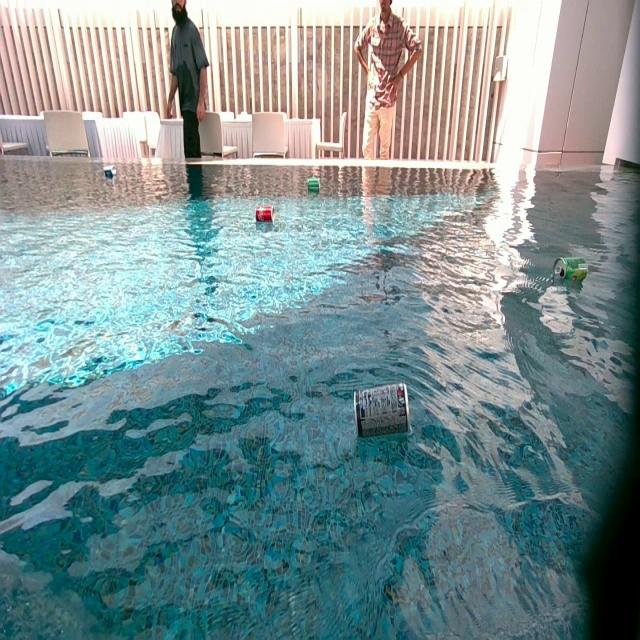Cans: (352, 383, 408, 442), (554, 257, 588, 285), (257, 207, 274, 224), (308, 177, 320, 191), (104, 168, 116, 179)
